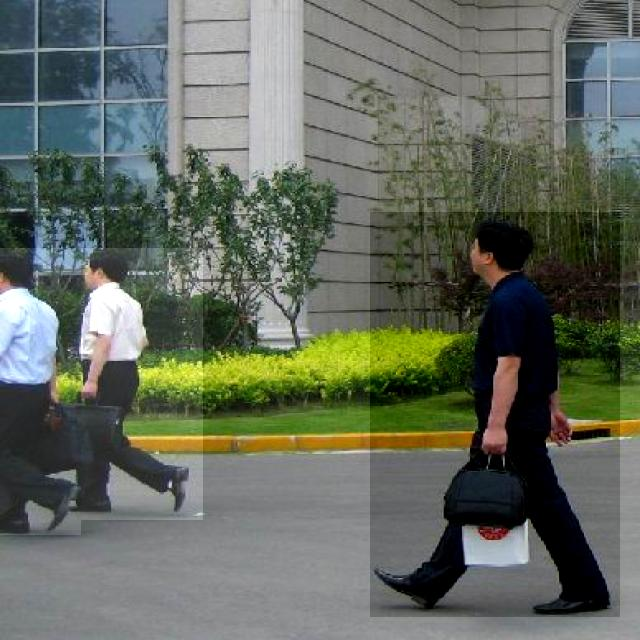with scooter: (370, 212, 620, 617), (82, 248, 204, 520), (0, 248, 81, 535)
